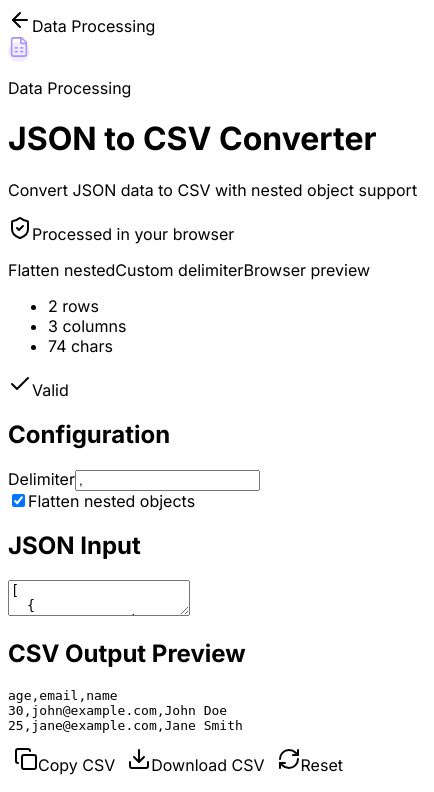
it: JSON to CSV Converter Page › Error Handling › shows error for empty array
Clear the text box with test id "codemirror-editor" at (99, 598), box left=8, top=580, right=190, bottom=616
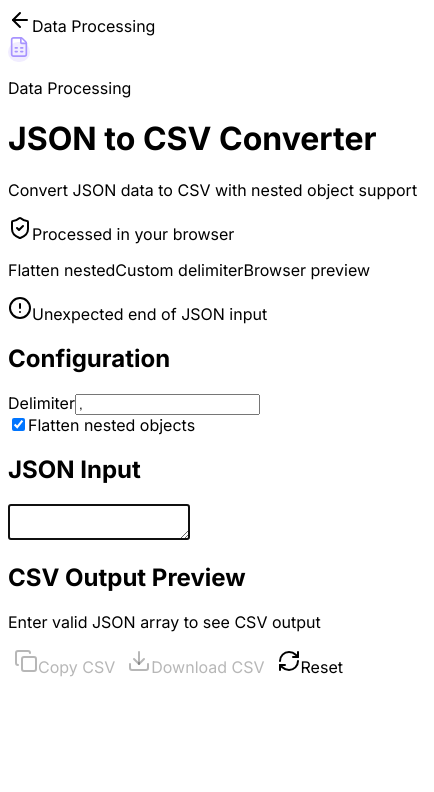
Type "[]" into the text box with test id "codemirror-editor".
click(99, 522); type("[]")  # box left=8, top=504, right=190, bottom=540
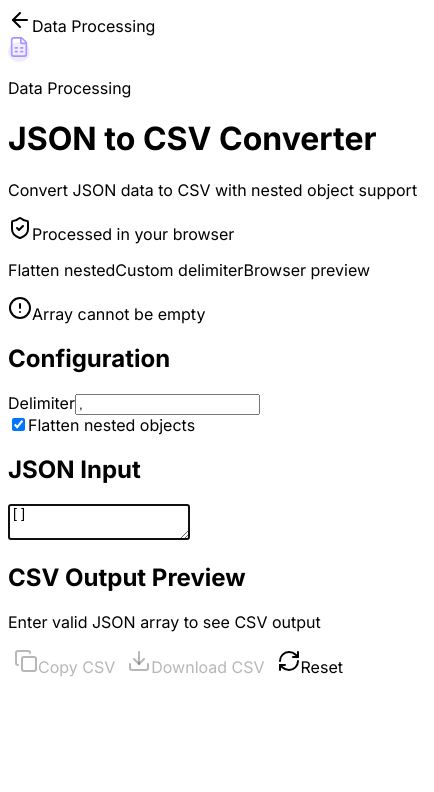
Now the text "Array cannot be empty" is shown, box left=32, top=304, right=205, bottom=324
